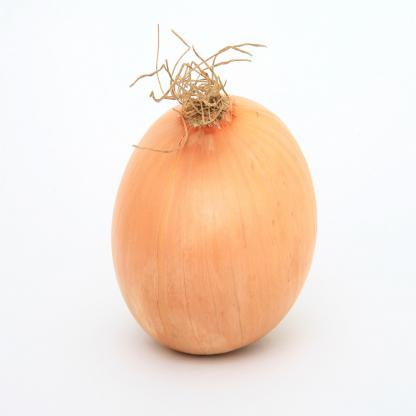onion: (111, 77, 316, 355)
